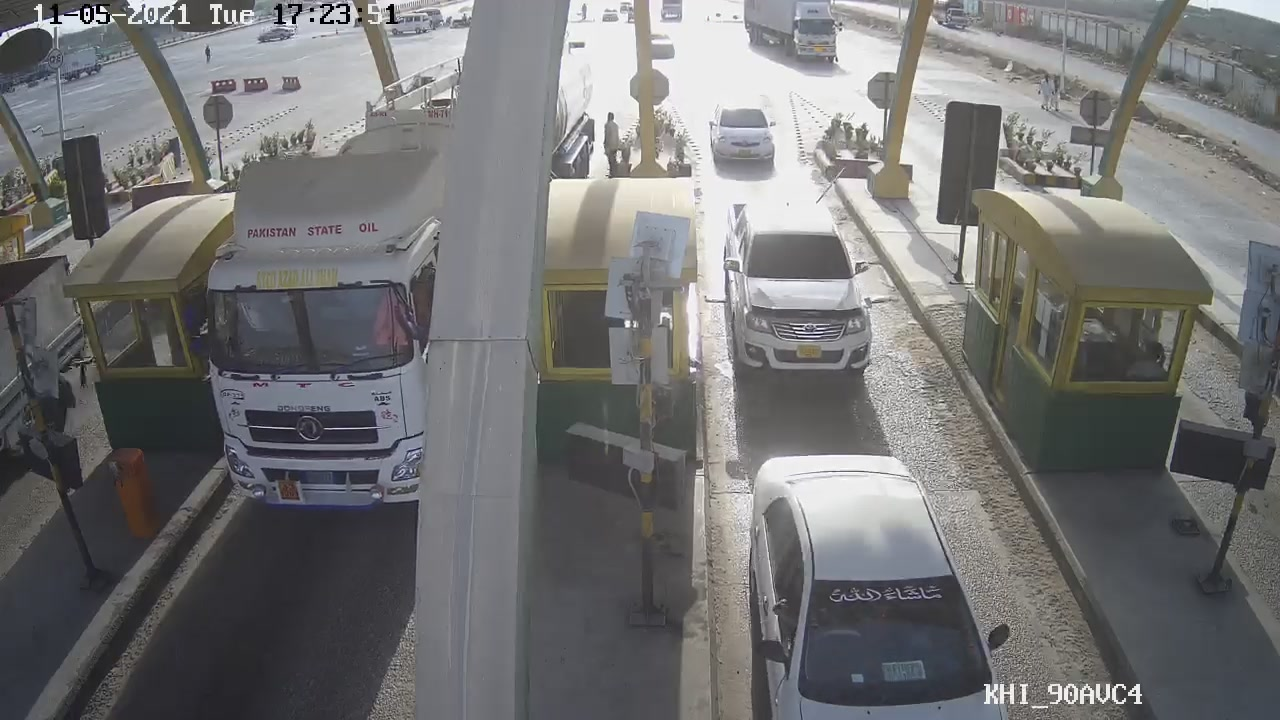F1: (720, 188, 896, 386)
